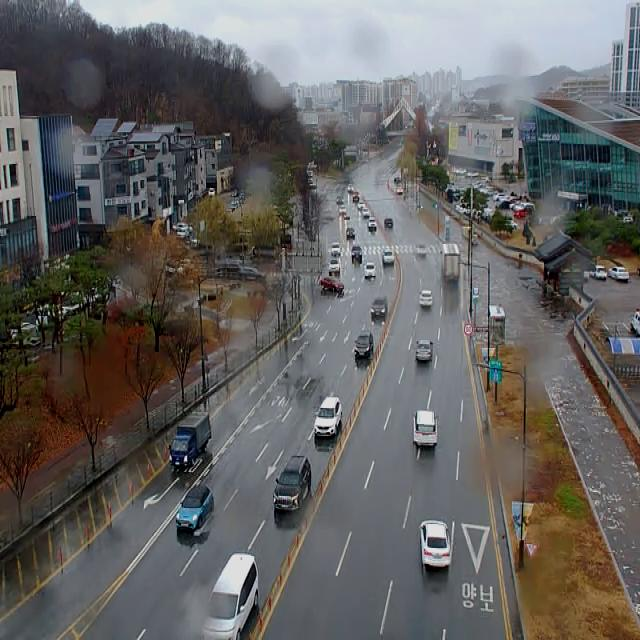Car: (201, 552, 258, 640), (274, 456, 311, 511), (176, 486, 213, 532), (421, 520, 452, 567), (314, 397, 342, 436), (413, 410, 438, 446), (355, 331, 374, 358), (240, 266, 266, 282), (320, 277, 344, 292), (416, 340, 432, 360), (372, 296, 388, 316), (608, 267, 629, 281), (588, 266, 607, 280), (420, 290, 432, 306), (364, 263, 376, 278), (383, 250, 394, 264), (177, 226, 189, 238), (352, 246, 362, 259), (329, 260, 339, 272), (384, 218, 393, 228), (332, 243, 340, 254), (347, 227, 355, 238), (368, 217, 376, 227), (362, 207, 370, 217), (209, 187, 215, 197), (340, 205, 346, 215), (353, 192, 360, 200), (336, 196, 344, 203), (348, 184, 354, 192), (359, 202, 365, 210), (637, 268, 640, 277)
Truck: (169, 412, 211, 466), (440, 244, 460, 280), (630, 309, 640, 336)
